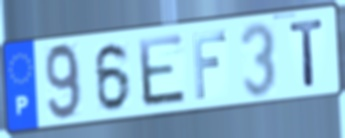3: (239, 17, 281, 101)
6: (93, 40, 134, 113)
9: (44, 41, 85, 125)
E: (136, 31, 190, 109)
F: (190, 28, 229, 102)
T: (288, 16, 326, 89)
